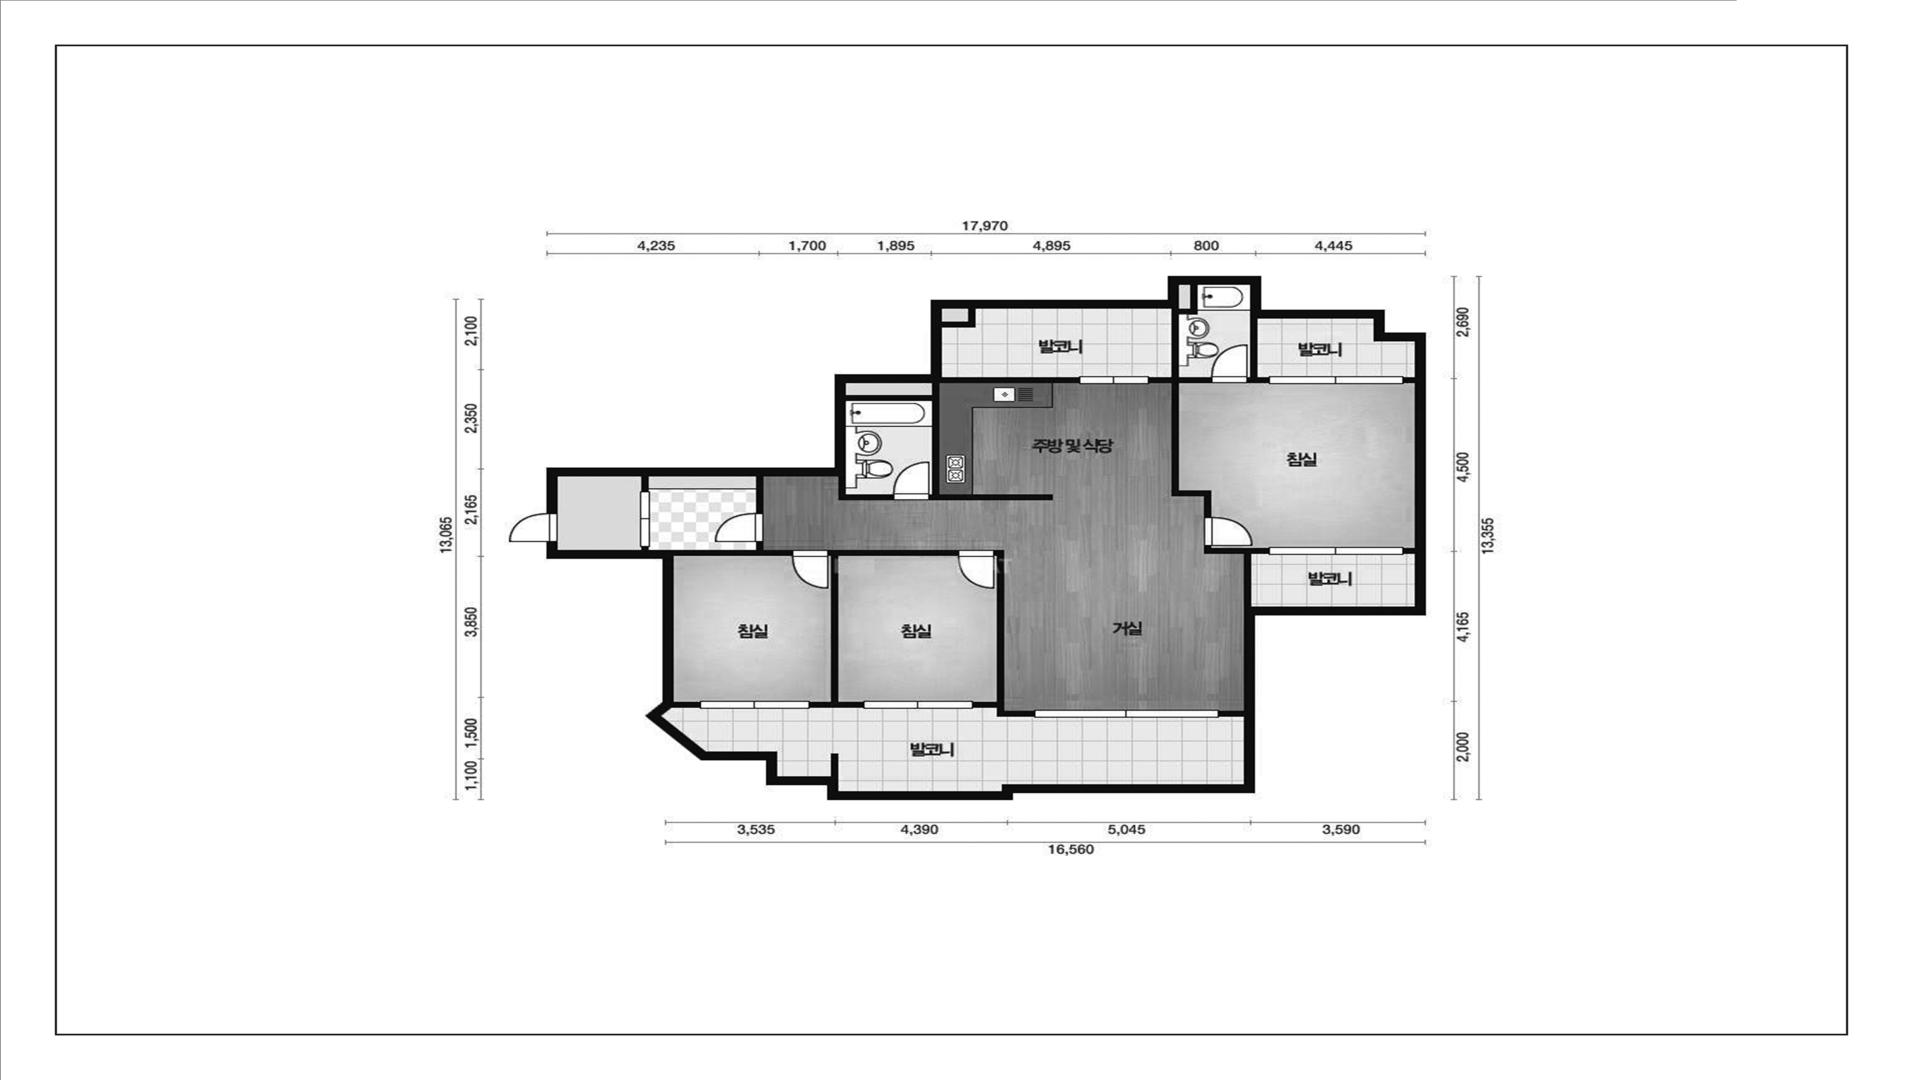door: (509, 513, 558, 542), (715, 513, 764, 542), (1204, 517, 1253, 546), (1211, 344, 1247, 382), (793, 550, 828, 589), (893, 462, 928, 500), (959, 550, 993, 588)
wall: (546, 276, 1425, 800), (845, 382, 1054, 500), (808, 550, 959, 708), (1149, 285, 1212, 517), (973, 550, 1034, 716), (1204, 545, 1269, 607), (673, 542, 793, 555), (1246, 318, 1269, 382), (839, 476, 894, 500), (942, 377, 1079, 382), (940, 309, 976, 327), (757, 476, 764, 513), (1218, 711, 1244, 716), (641, 476, 649, 491), (1403, 377, 1415, 382), (1403, 549, 1415, 554), (641, 547, 649, 550)
window: (1034, 711, 1218, 716), (862, 702, 973, 708), (699, 702, 810, 708), (1269, 377, 1403, 382), (1269, 549, 1403, 554), (641, 491, 649, 547), (1079, 377, 1149, 382)
